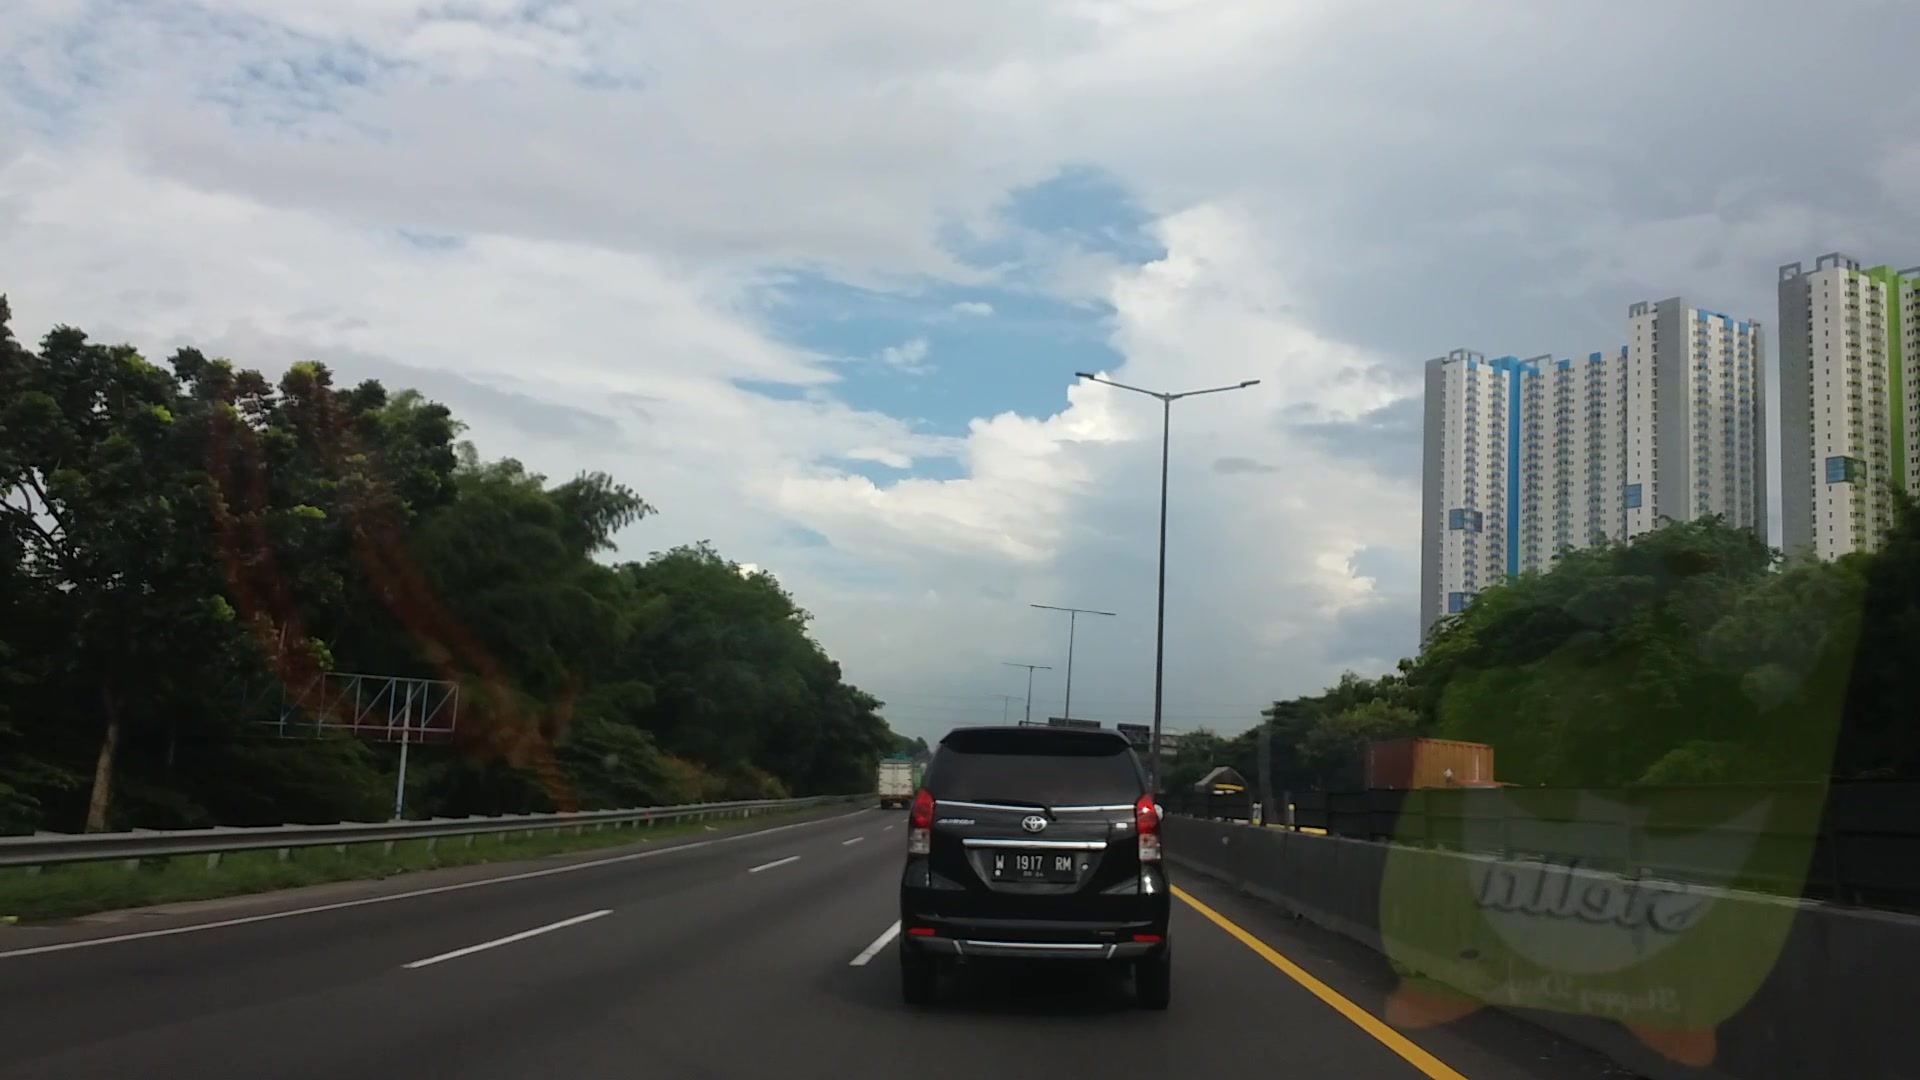plate_positive: (992, 851, 1073, 880)
